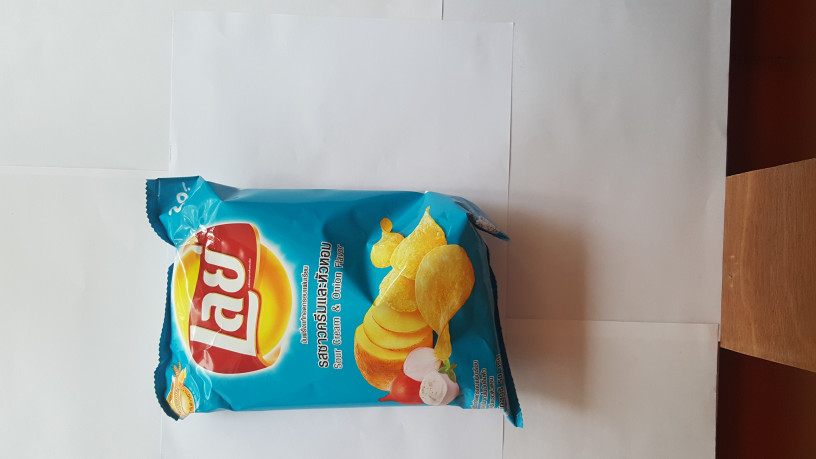lays-onion: (131, 166, 529, 443)
